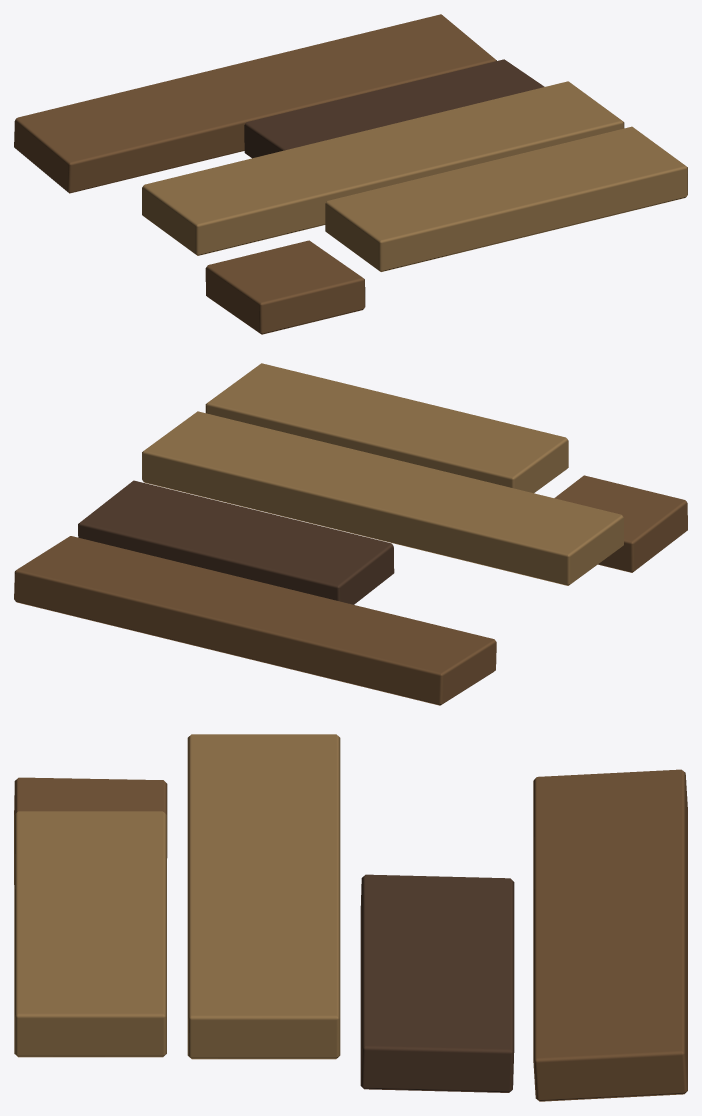
The model's file is village-planks-broken.0592018b.glb.
The picture shows the model from 3 angles, top to bottom: view 1: azimuth 30°, elevation 25°; view 2: azimuth 150°, elevation 25°; view 3: azimuth 270°, elevation 25°; orthographic projection. The views are drawn at different scales.
Parts seen in each view (by area): view 1: body; view 2: body; view 3: body.
Part boxes in pixels (box(x1,y1,x2,y2)): body: box(14, 14, 687, 334); body: box(14, 363, 687, 705); body: box(14, 734, 687, 1101).
Size of the model in its own units: 0.97 by 0.1461 by 0.972.
